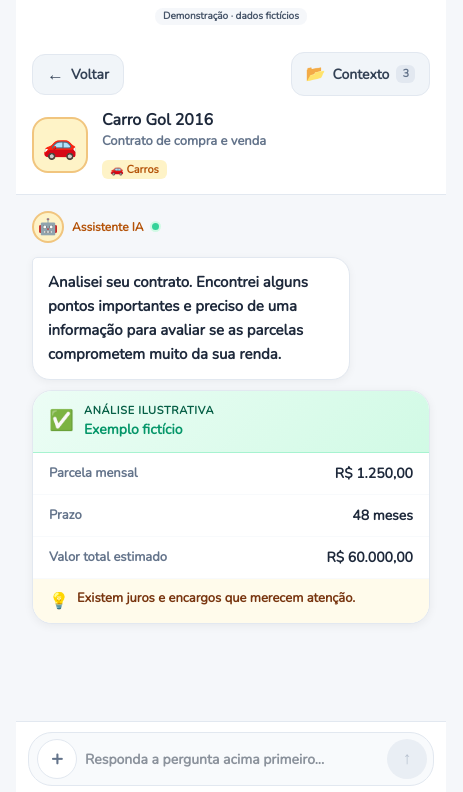
Test: jornada demonstrativa completa › retoma introdução interrompida sem duplicar pergunta ou pular renda
Click the button "← Voltar".
click(78, 74)  # box [32, 54, 124, 94]
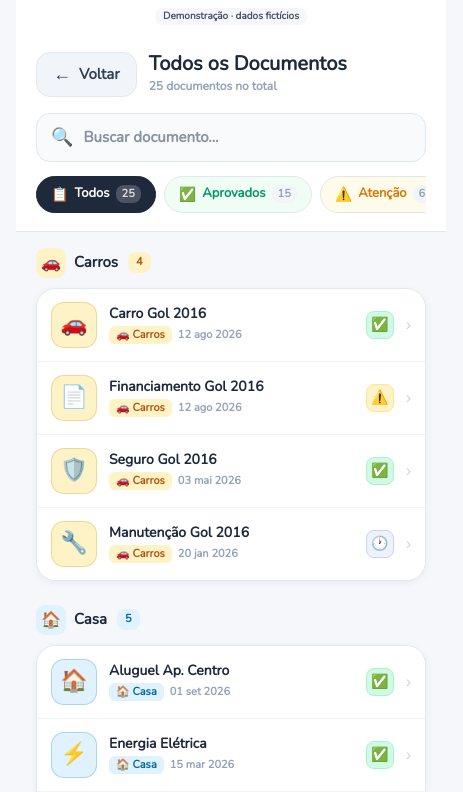
Click the button "🚗 Carro Gol 2016 🚗 Carros 12 ago 2026 ✅ ›".
click(231, 325)  # box [37, 288, 425, 362]
Wait 150 ms
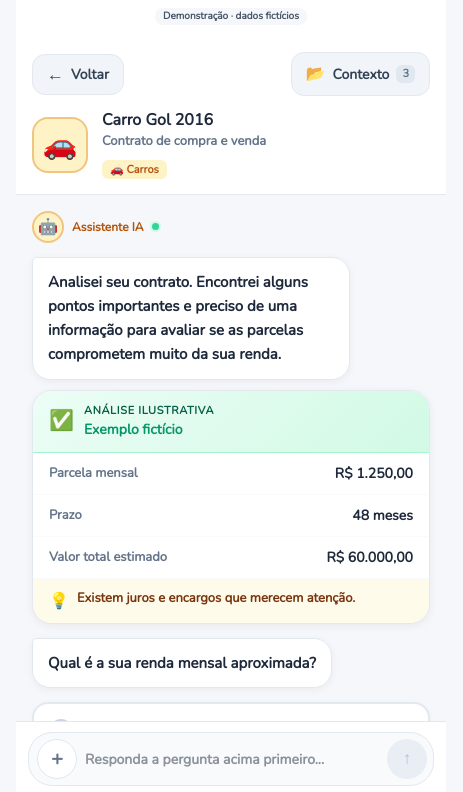
Result: the text "Qual é a sua renda mensal aproximada?" is shown once at [48, 653, 316, 673]
Result: the field named "Mensagem sobre o documento" is disabled at [85, 748, 379, 770]
